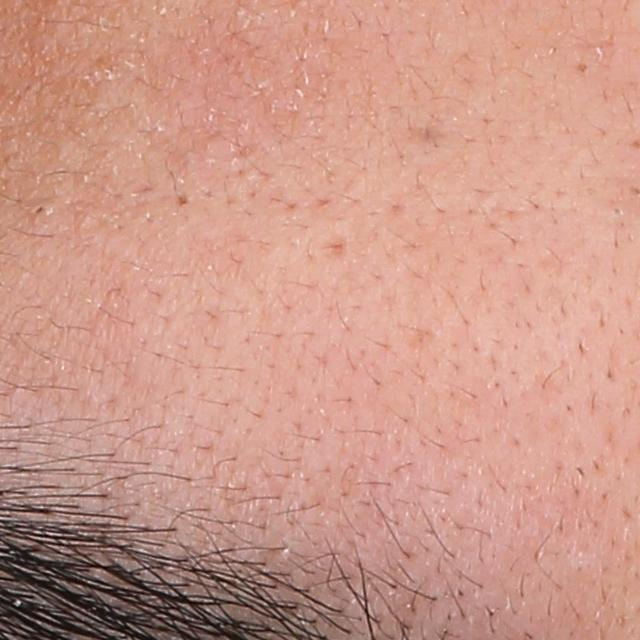comedo: (27, 202, 50, 221)
